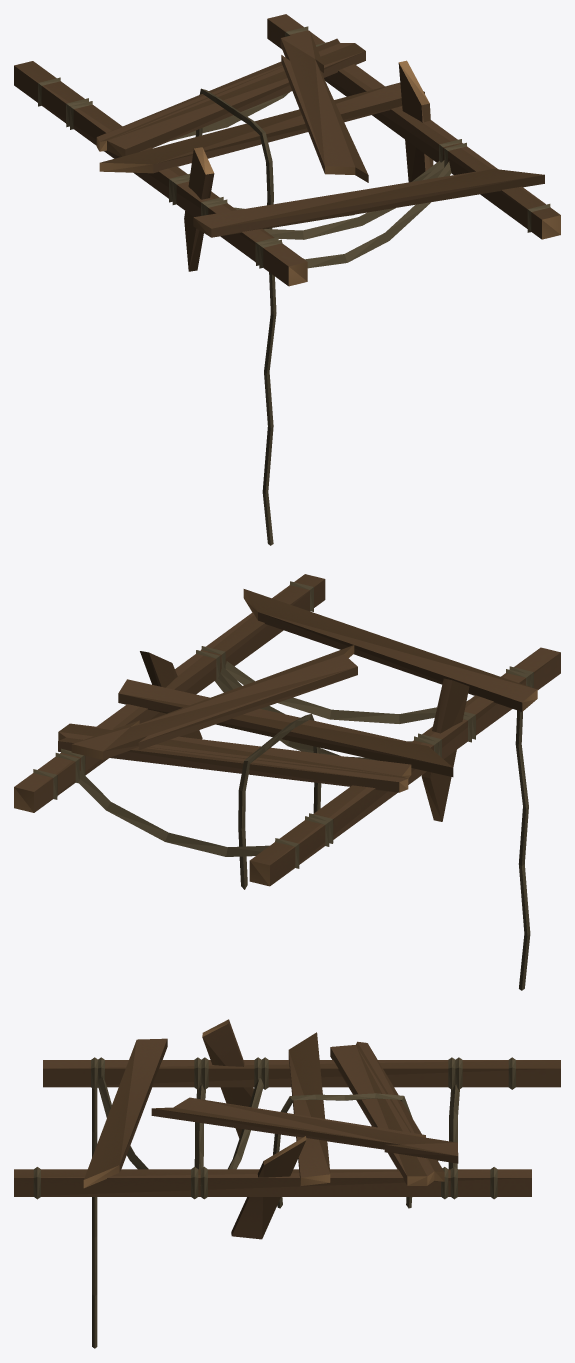
The model's file is Bridge_4_Lod0.fbx.
3 views of the same model, one above another, from view 1: azimuth 30°, elevation 25°; view 2: azimuth 150°, elevation 25°; view 3: azimuth 270°, elevation 25° (orthographic). The views are drawn at different scales.
Parts seen in each view (by area): view 1: polySurface604; view 2: polySurface604; view 3: polySurface604.
Boxes of the visible parts, x1,y1,x2,y2 form: polySurface604: (14,14,560,545); polySurface604: (14,574,560,990); polySurface604: (14,1019,560,1348).
Size of the model in its own units: 338 by 347 by 528.
1 material, 1 textured.
